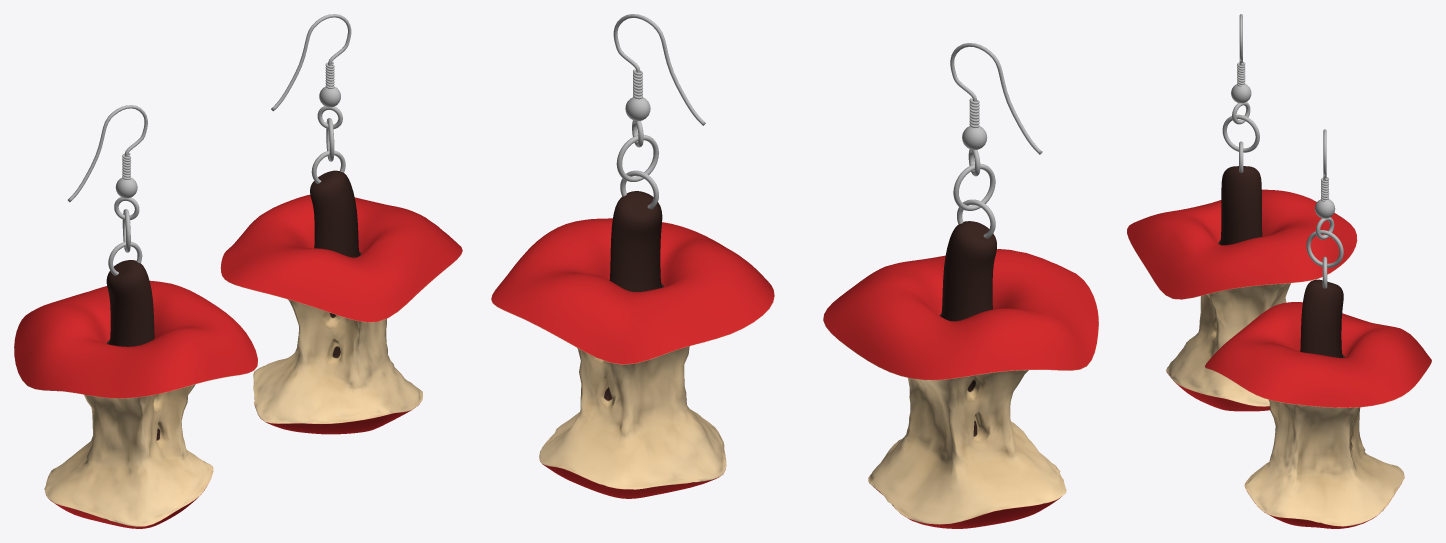
The picture shows the model from 3 angles, left to right: view 1: azimuth 30°, elevation 25°; view 2: azimuth 150°, elevation 25°; view 3: azimuth 270°, elevation 25°; orthographic projection. The views are drawn at different scales.
Visible parts, largest first — view 1: Red Apple Earrings01, Red Apple Earrings02; view 2: Red Apple Earrings01, Red Apple Earrings02; view 3: Red Apple Earrings02, Red Apple Earrings01.
Part boxes in pixels (x1=…): Red Apple Earrings01: x1=14, y1=105, x2=257, y2=528; Red Apple Earrings02: x1=220, y1=14, x2=462, y2=434; Red Apple Earrings01: x1=823, y1=43, x2=1098, y2=528; Red Apple Earrings02: x1=491, y1=14, x2=774, y2=498; Red Apple Earrings02: x1=1205, y1=129, x2=1431, y2=528; Red Apple Earrings01: x1=1127, y1=14, x2=1357, y2=411.
Bounding box in the file's own units: 1.92 × 1.64 × 1.2.
1 material, 1 textured.
